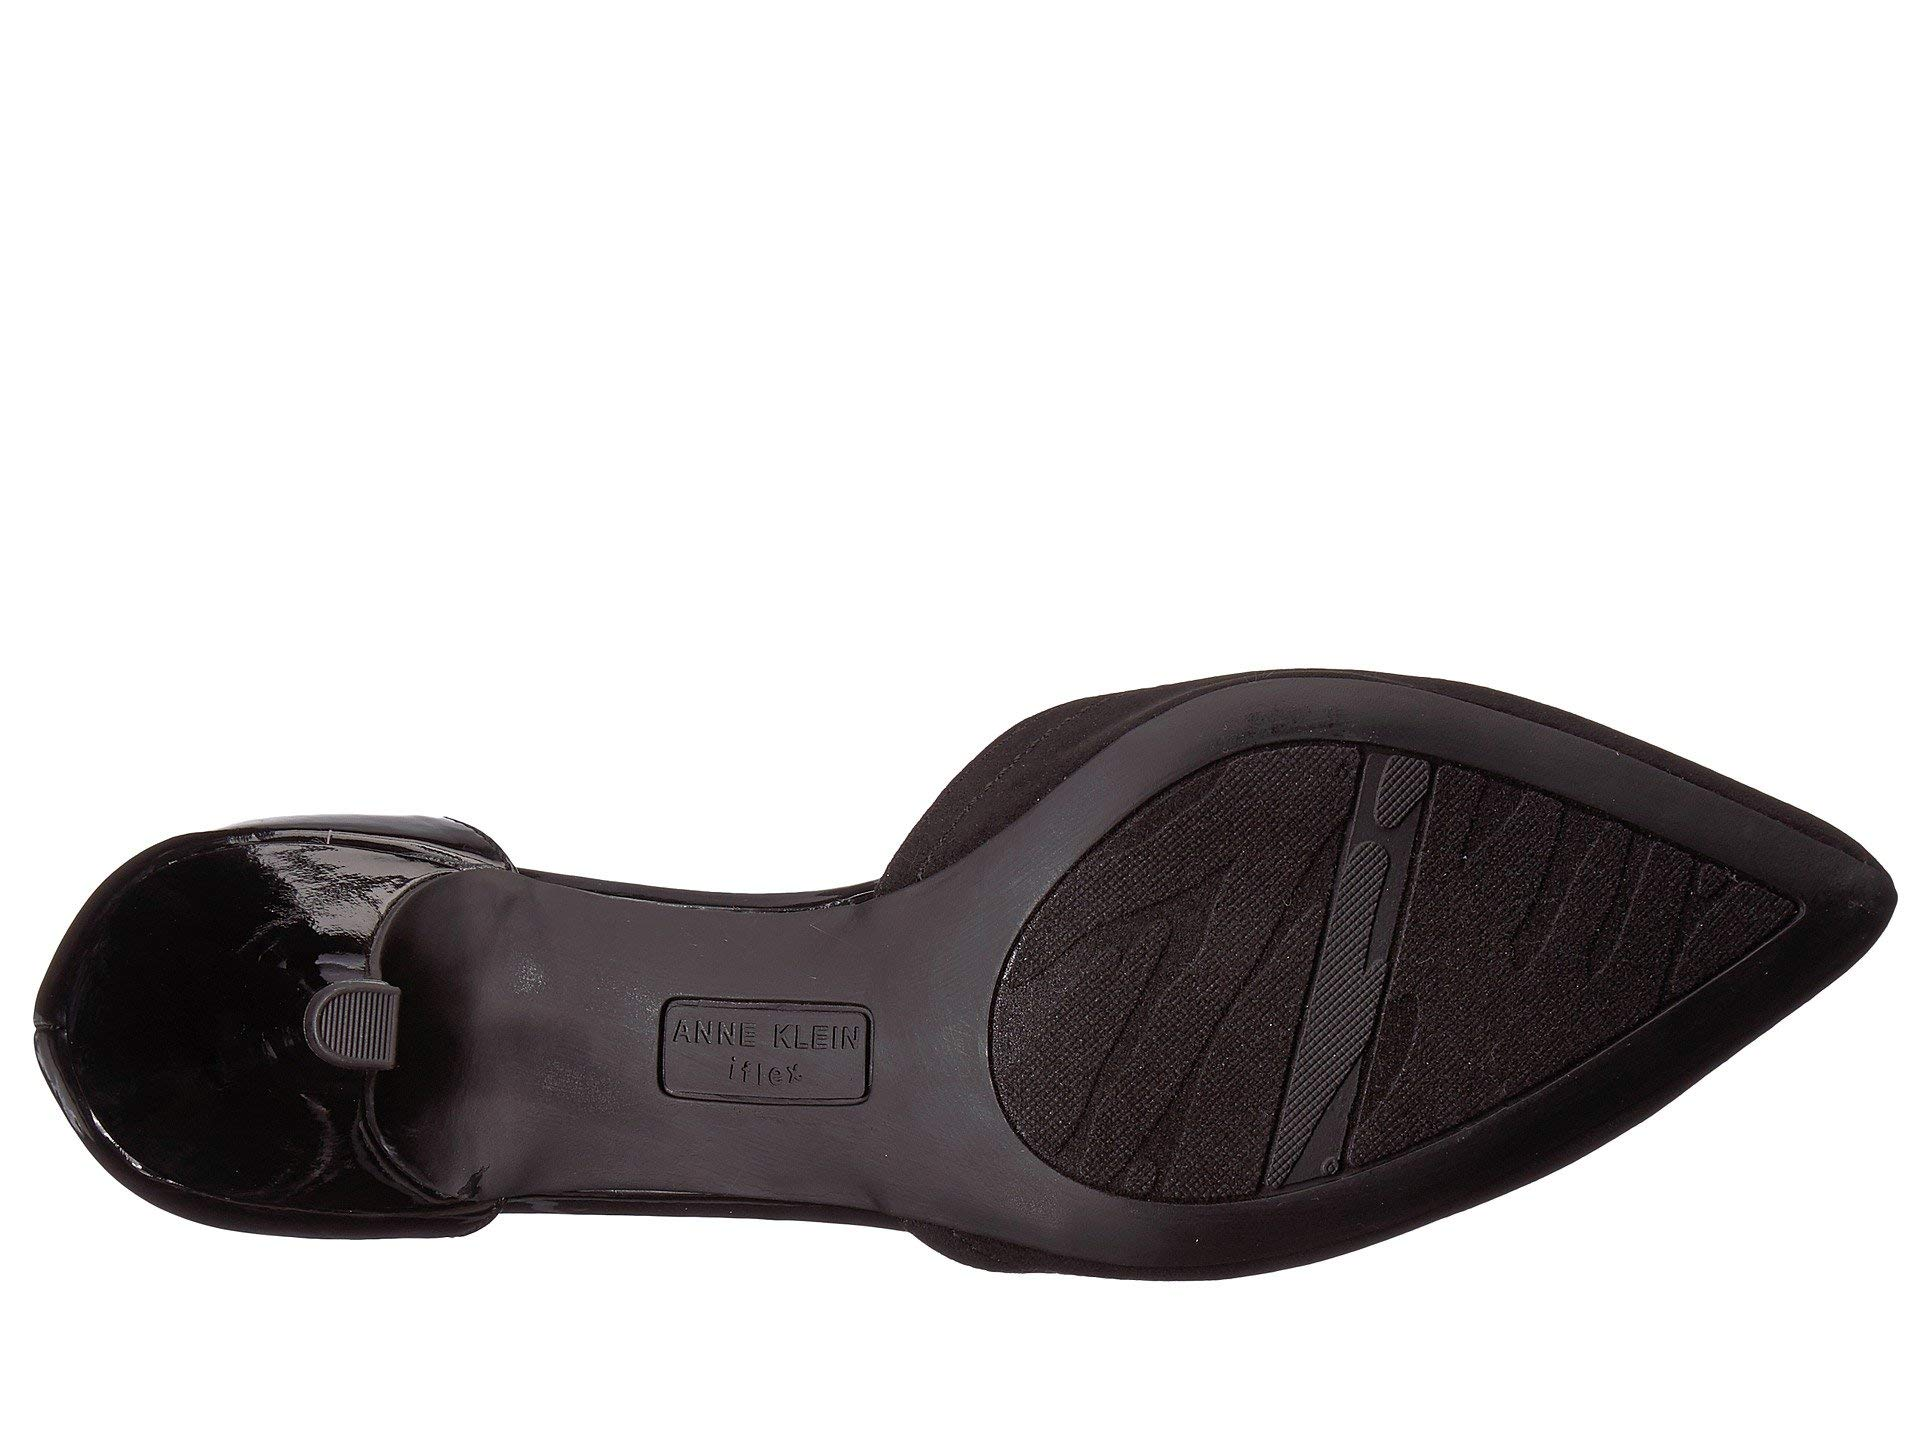line: (336, 1001, 392, 1044)
